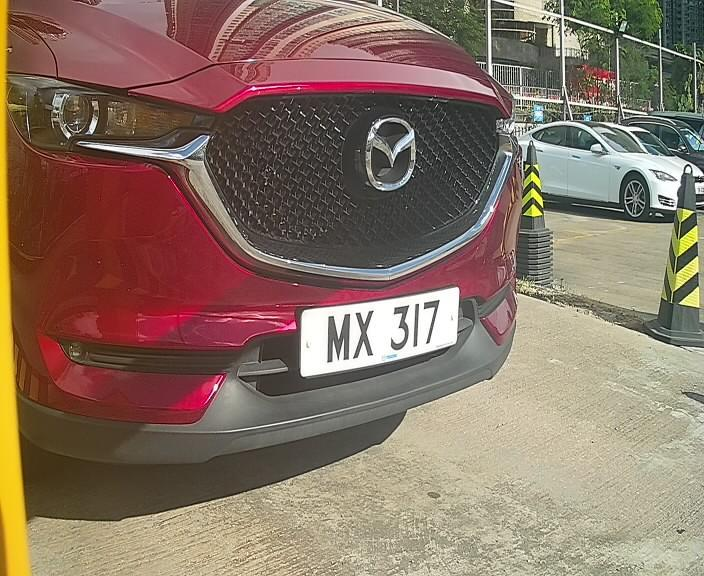Car: (38, 6, 595, 528)
License Plate: (290, 278, 466, 384)
